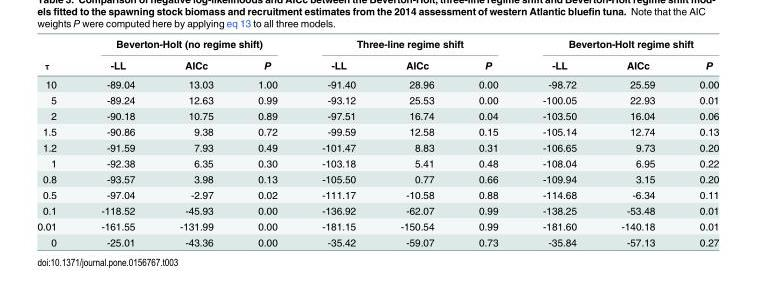table: (36, 37, 718, 247)
table column: (156, 37, 235, 247), (519, 37, 598, 247), (78, 37, 156, 247), (299, 37, 377, 247), (377, 37, 455, 247), (598, 37, 676, 247), (235, 37, 299, 247), (455, 37, 519, 247), (36, 37, 78, 247), (676, 37, 718, 247)
table column header: (36, 37, 718, 74)
table row: (36, 53, 718, 74), (36, 74, 718, 91), (36, 37, 718, 53), (36, 91, 718, 107), (36, 107, 718, 123), (36, 123, 718, 139), (36, 154, 718, 170), (36, 170, 718, 186), (36, 186, 718, 202), (36, 202, 718, 218), (36, 139, 718, 154), (36, 218, 718, 233), (36, 233, 718, 247)
table spanning cell: (78, 37, 299, 53), (299, 37, 519, 53), (519, 37, 718, 53), (36, 37, 78, 74)
